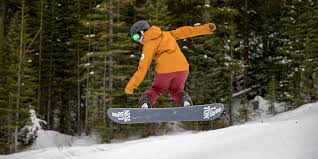snowboarder: (105, 19, 225, 124)
